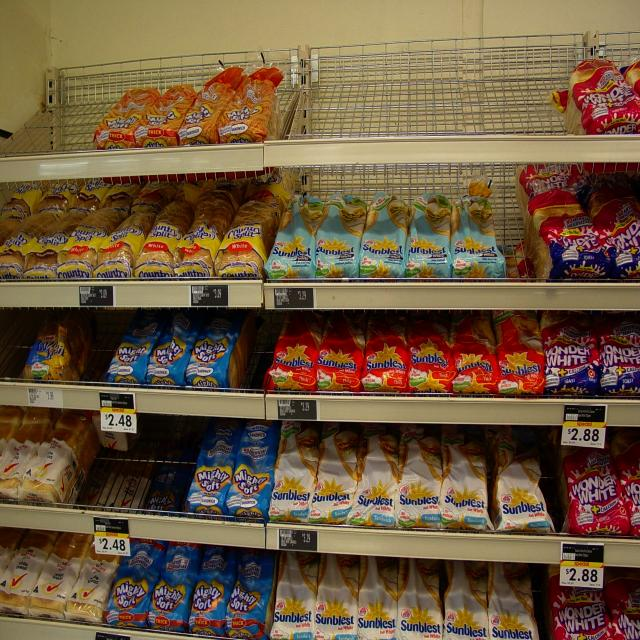empty_space: (322, 47, 550, 133), (95, 435, 180, 502), (22, 77, 90, 147), (4, 319, 23, 369), (88, 329, 108, 375)
